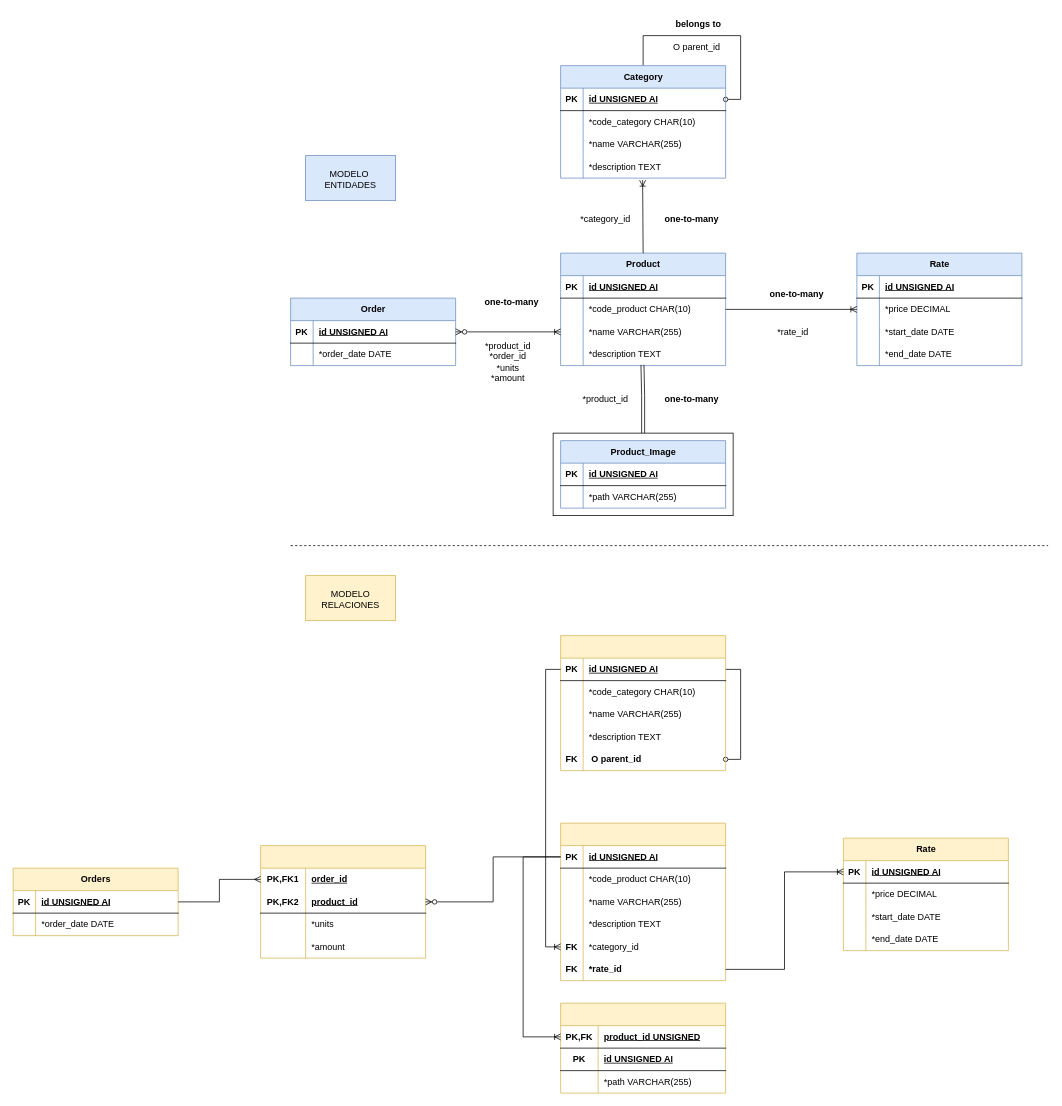
Image size: 1062x1106. Some labels were removed from this diagram. Here are the shapes that lost their labels. From the top down, the box of each, then its label:
(560, 635, 726, 771): Categorys
(260, 845, 426, 958): Orders_Products
(560, 822, 726, 981): Products
(560, 1002, 726, 1093): Products_Images
